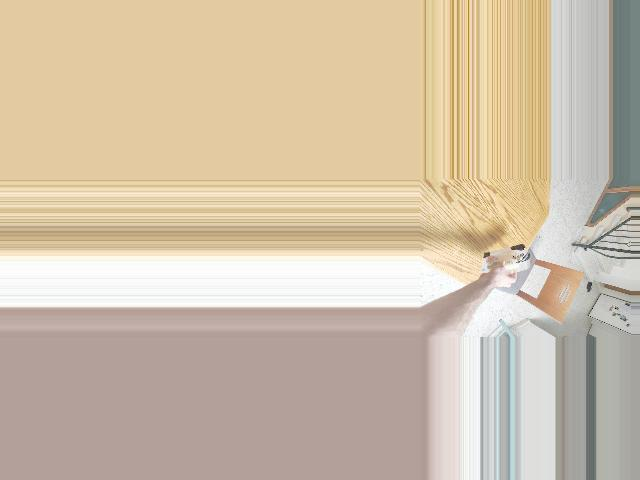cheese: (481, 244, 528, 276)
